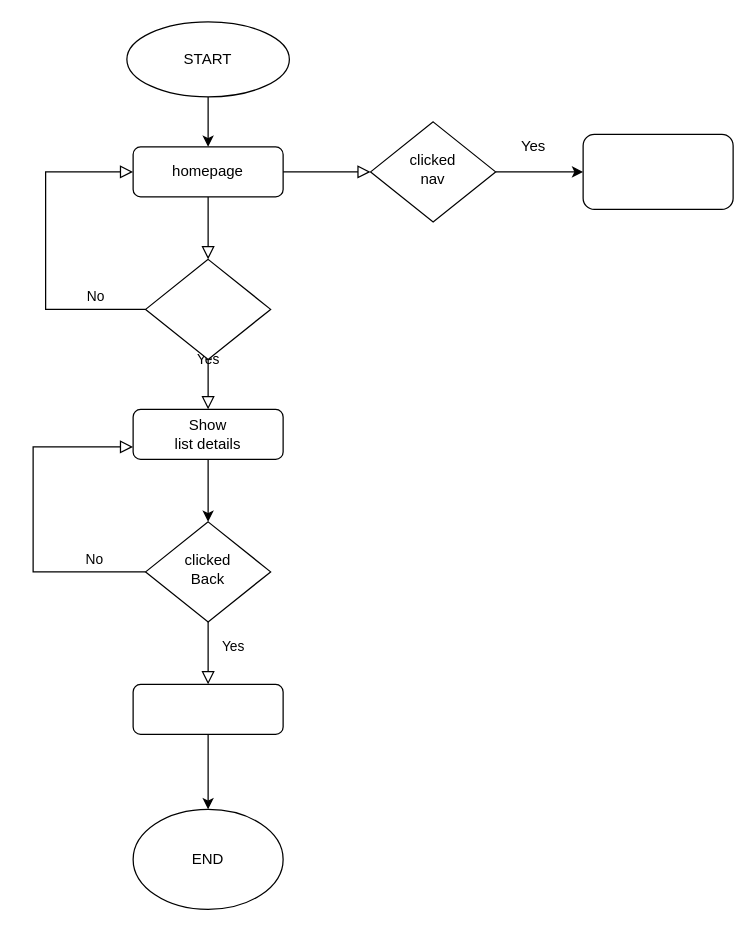
Some shapes in this 755 by 931 pixel diagram are drawn without their labels. The shapes that lost their labels are listed below. From the top down, each one's centre as x and y in pixels, then its label:
At [657,171]: "Link to nav page".
At [207,308]: "clicked Read More".
At [207,708]: "Show list".
